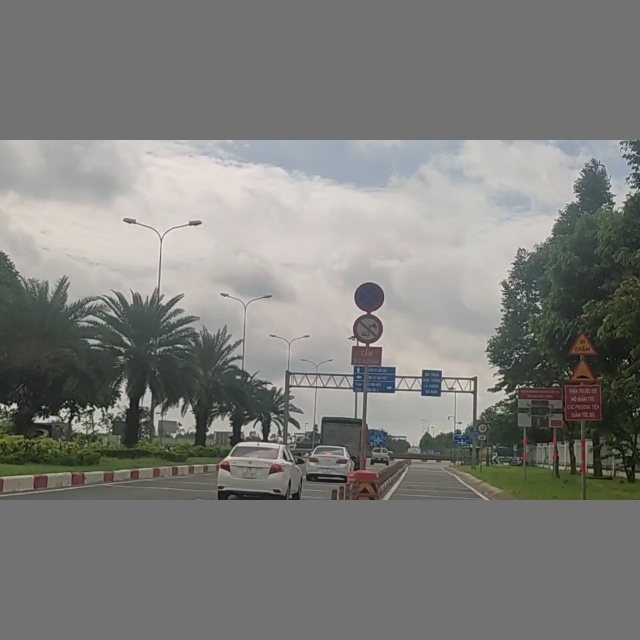P.111: (353, 313, 384, 343)
P.130: (353, 281, 385, 312)
W.221b: (567, 357, 599, 383)
W.245a: (568, 329, 601, 355)
